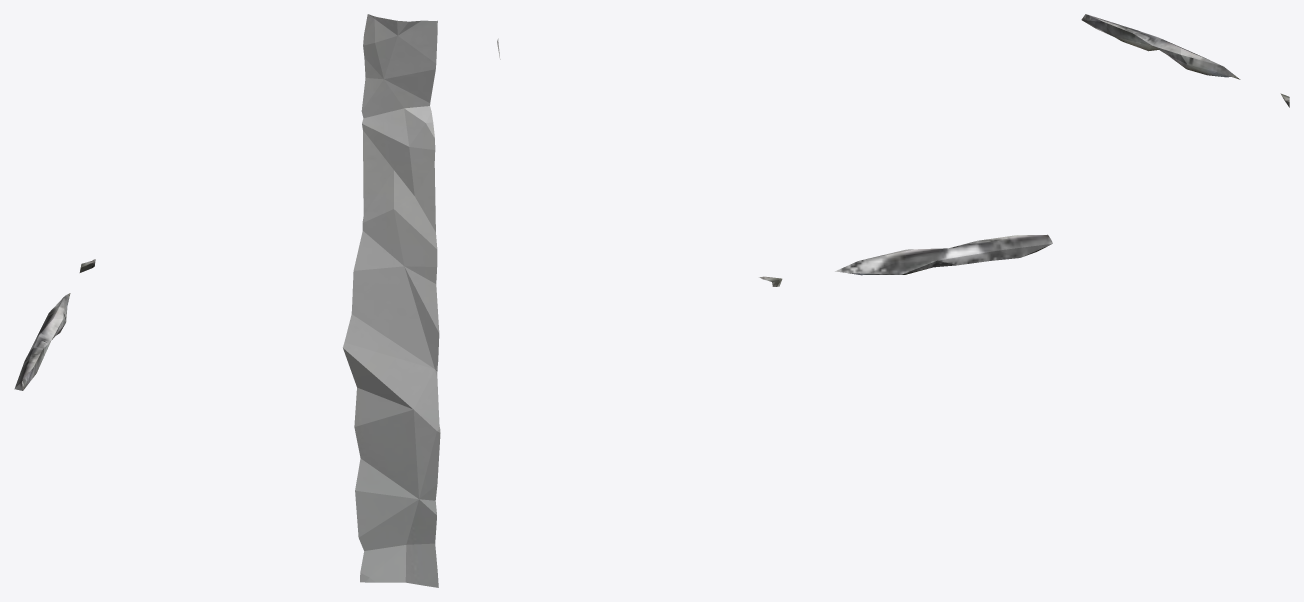
3 renders of one model, left to right at view 1: azimuth 30°, elevation 25°; view 2: azimuth 150°, elevation 25°; view 3: azimuth 270°, elevation 25°, orthographic. The views are drawn at different scales.
Bounding box in the file's own units: 0.7915 × 0.8374 × 0.3118.
Materials: 1 (1 with a texture image).
